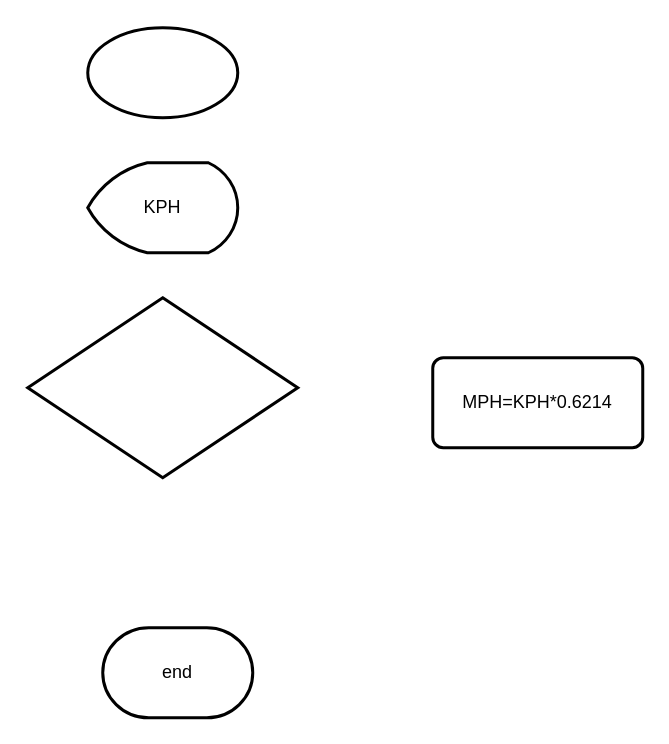
Image size: 669x744. Some labels were removed from this diagram. The box of each missing label's shape, as (x1, y1, x2, y2) in pixels:
KPH in range(60,140,10: (26, 296, 298, 478)
start: (86, 26, 238, 118)
